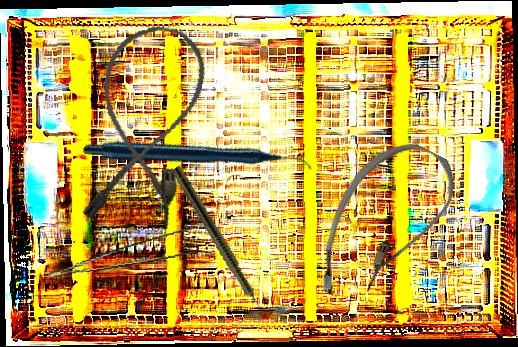Cannula: (300, 124, 468, 325), (76, 16, 213, 236)
Handpiece: (81, 47, 313, 271), (168, 164, 272, 324)
Tissue Forceps: (44, 226, 205, 278)
